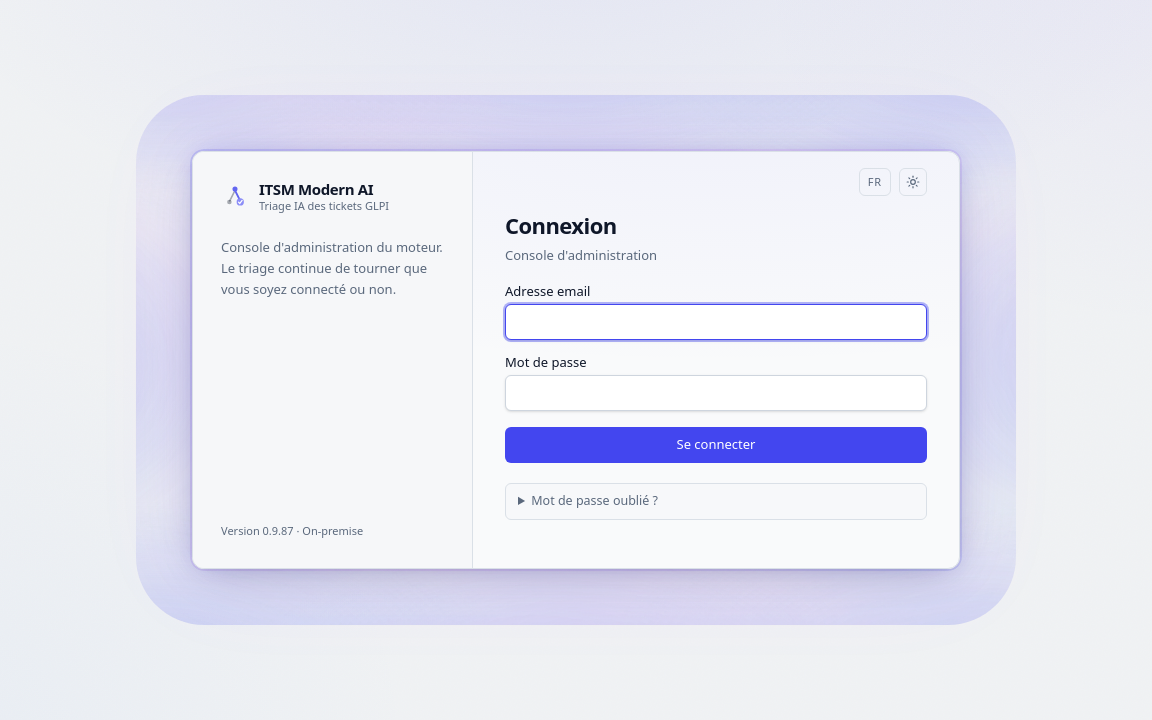
Login › affiche « identifiants incorrects » sur un vrai 401
The width and height of the screenshot is (1152, 720).
Type "admin@exemple.fr" into the field labelled "Adresse email". click: (716, 322)
box: [505,304,927,340]
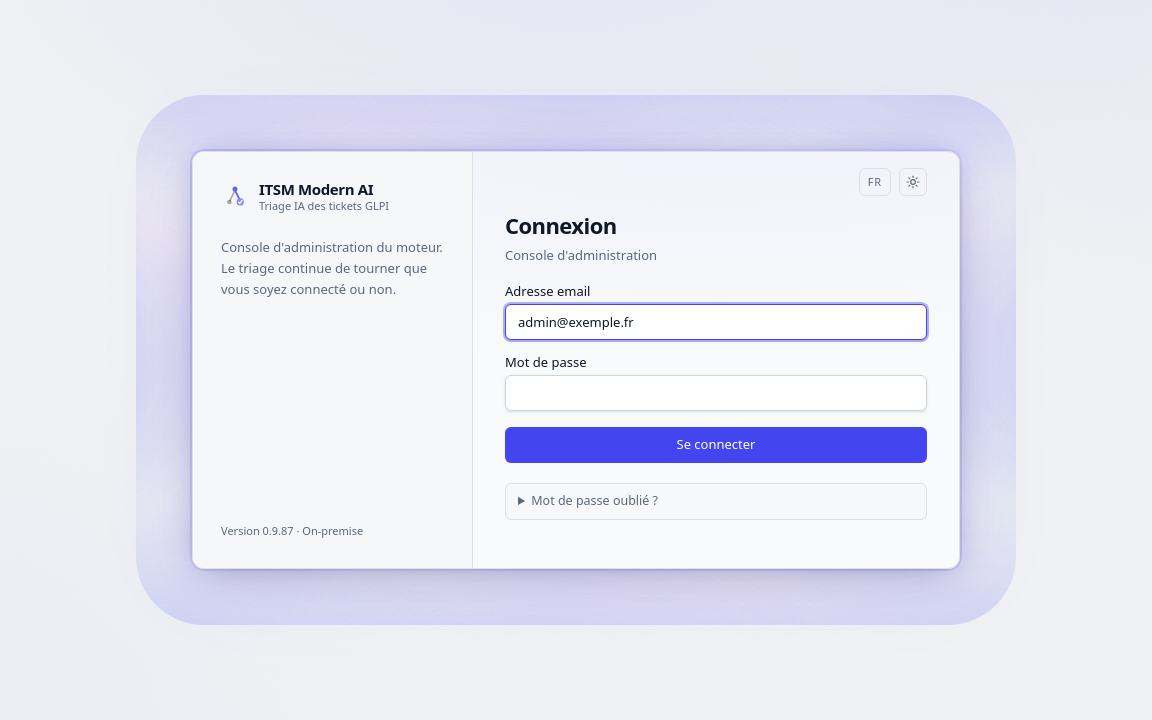
Type "mauvais" into the password field labelled "Mot de passe". click: (716, 393)
box: [505,375,927,411]
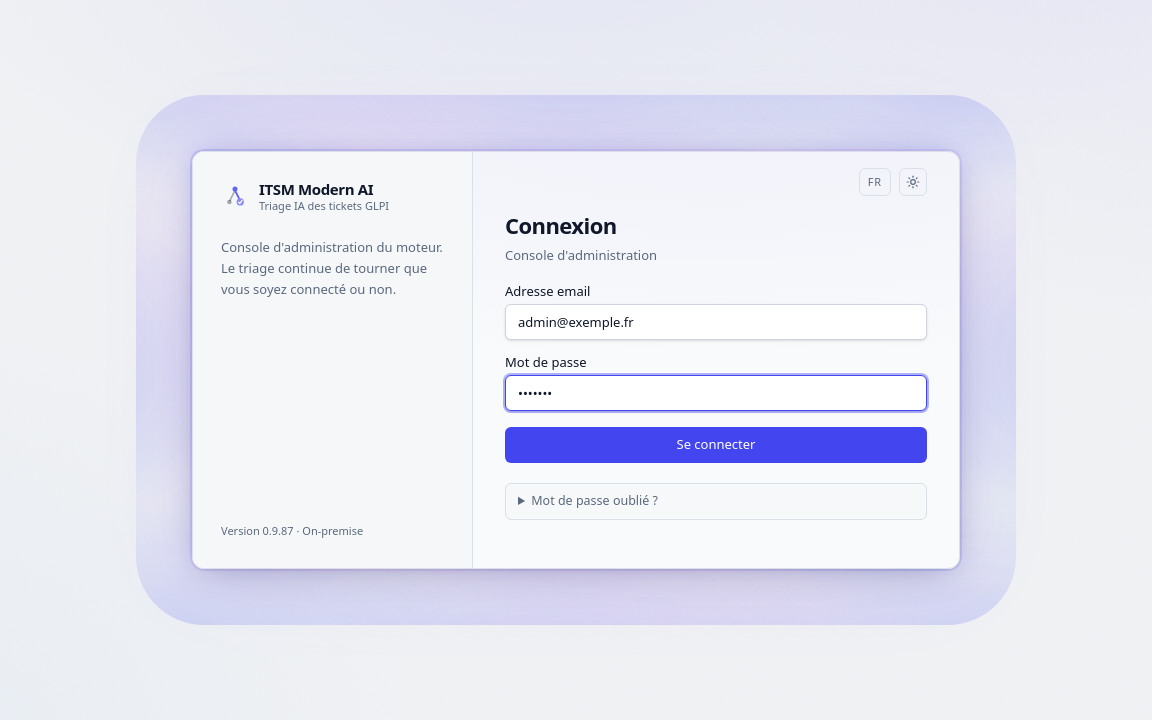
Click the button "Se connecter". click: (716, 445)
box: [505,427,927,463]
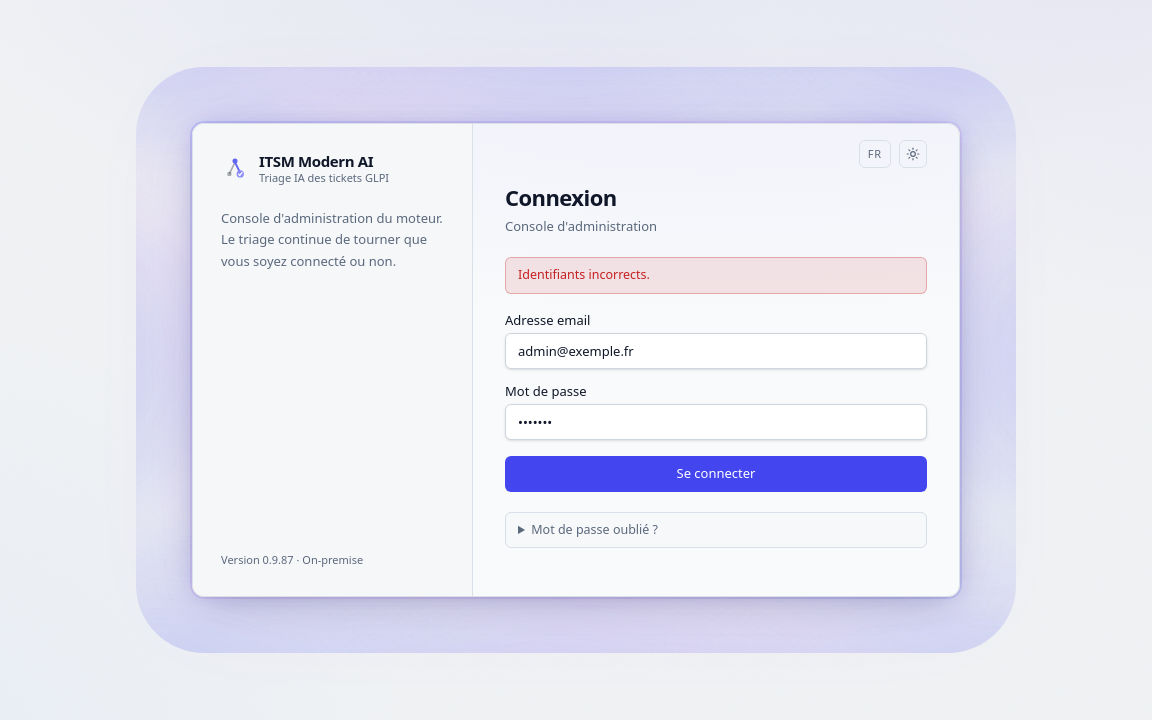
Now the text "Identifiants incorrects." is shown, box [505,257,927,294]
